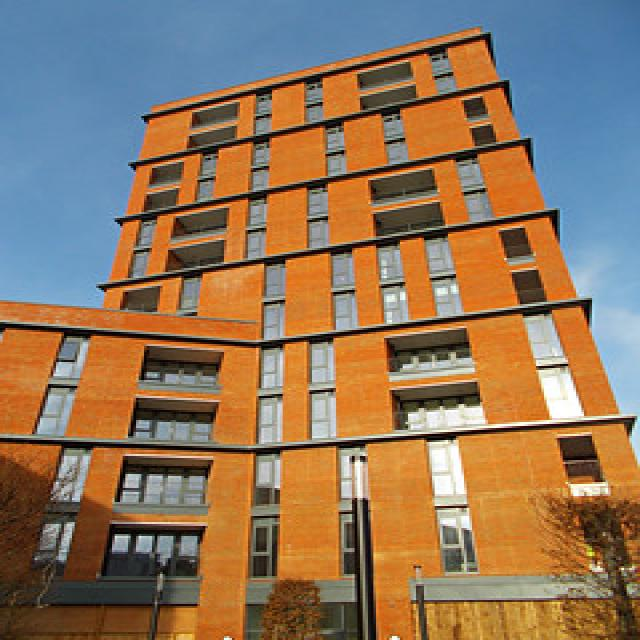building: (80, 19, 640, 637)
